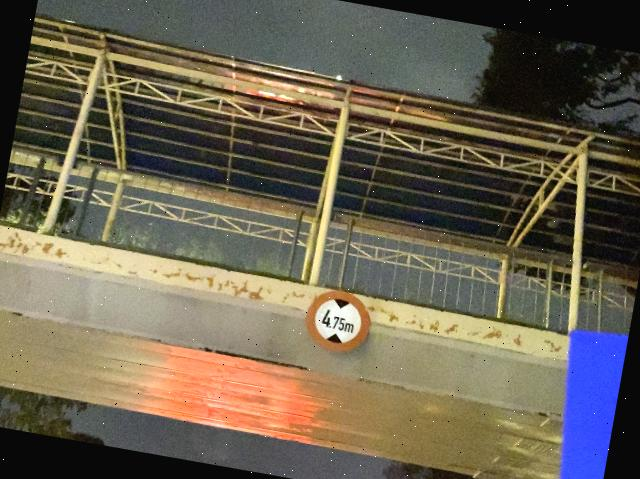han-che-chieu-cao: (301, 283, 374, 356)
